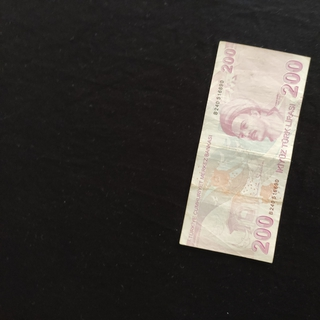200TLBack: (178, 40, 312, 264)
